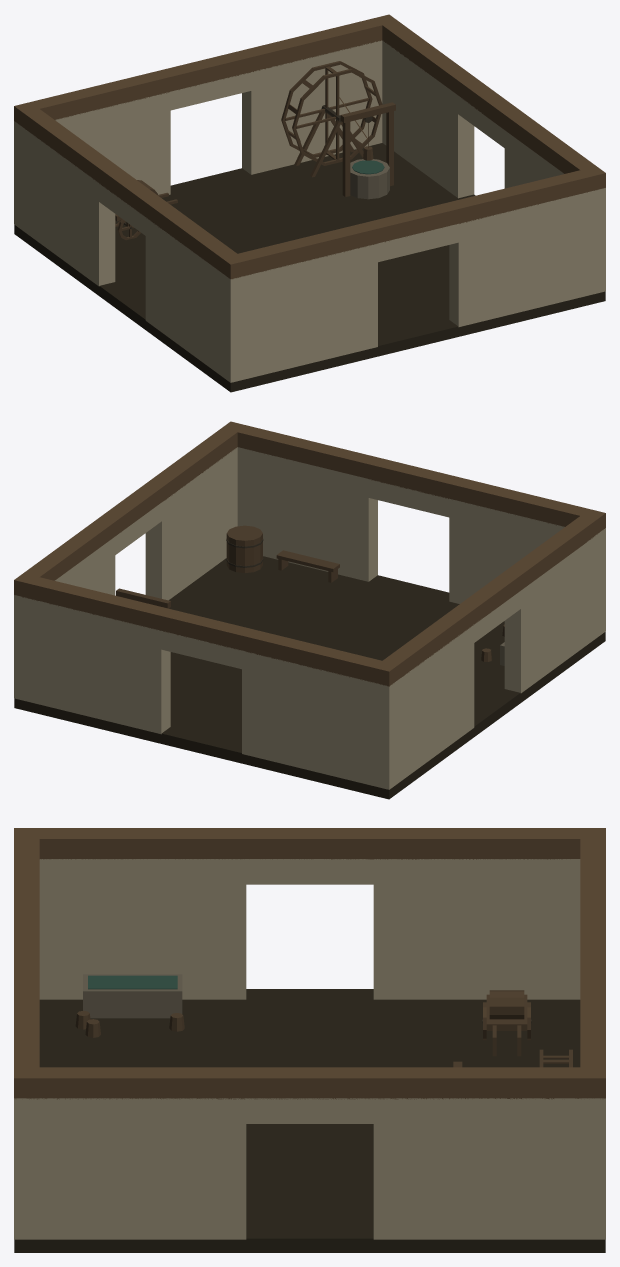
The model's file is LateTreadwheelWell.fbx.
3 renders of one model, top to bottom at view 1: azimuth 30°, elevation 25°; view 2: azimuth 150°, elevation 25°; view 3: azimuth 270°, elevation 25°, orthographic. The views are drawn at different scales.
Visible parts, largest first — view 1: LateTreadwheelWell; view 2: LateTreadwheelWell; view 3: LateTreadwheelWell.
Boxes of the visible parts, left/top/right/bottom form: LateTreadwheelWell: left=14, top=14, right=605, bottom=392; LateTreadwheelWell: left=14, top=421, right=605, bottom=799; LateTreadwheelWell: left=14, top=828, right=605, bottom=1252.
Size of the model in its own units: 1202 by 392 by 1202.
Materials: 7 (7 with a texture image).
